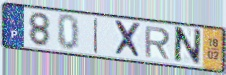0: (56, 14, 81, 53)
8: (26, 12, 52, 47)
I: (92, 16, 99, 55)
N: (172, 25, 203, 67)
R: (143, 26, 172, 62)
X: (113, 19, 144, 61)
